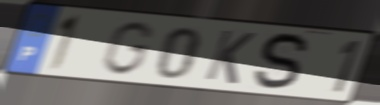0: (154, 25, 206, 81)
1: (47, 13, 88, 75), (333, 39, 364, 96)
G: (99, 20, 157, 78)
K: (201, 27, 258, 87)
S: (251, 31, 312, 93)
